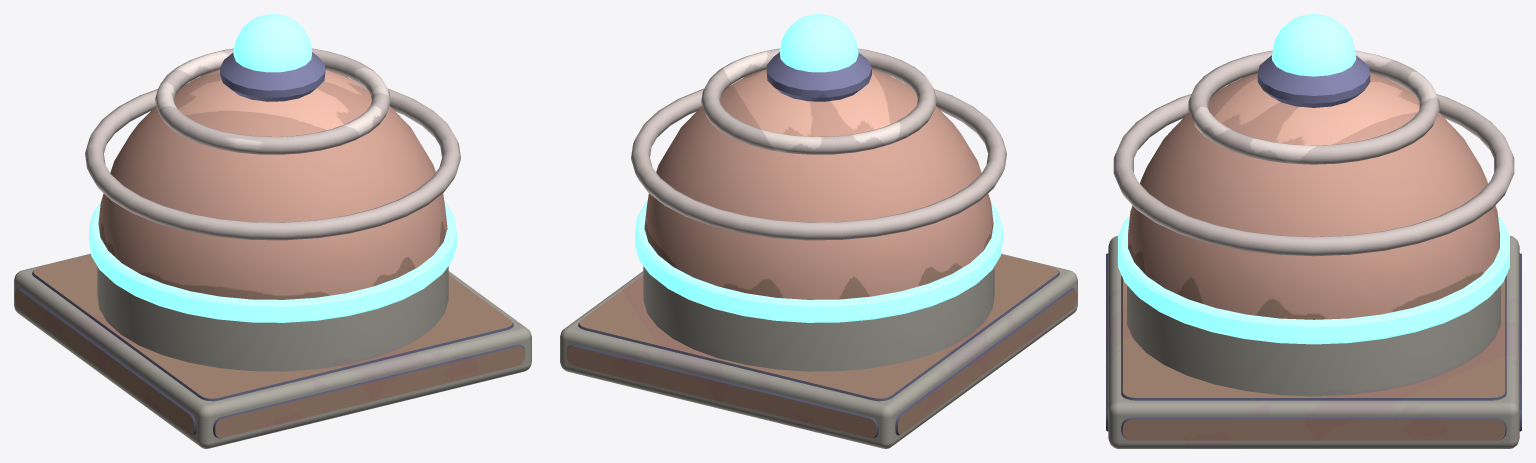
The model's file is R4X_PersonalShield.glb.
3 renders of one model, left to right at view 1: azimuth 30°, elevation 25°; view 2: azimuth 150°, elevation 25°; view 3: azimuth 270°, elevation 25°, orthographic. The views are drawn at different scales.
Visible parts, largest first — view 1: R4X_PersonalShield_Body; view 2: R4X_PersonalShield_Body; view 3: R4X_PersonalShield_Body.
Part boxes in pixels (x1=…): R4X_PersonalShield_Body: x1=14, y1=14, x2=531, y2=448; R4X_PersonalShield_Body: x1=560, y1=14, x2=1077, y2=448; R4X_PersonalShield_Body: x1=1106, y1=14, x2=1521, y2=448.
Size of the model in its own units: 0.52 by 0.4831 by 0.52.
Materials: 4 (3 with a texture image).
